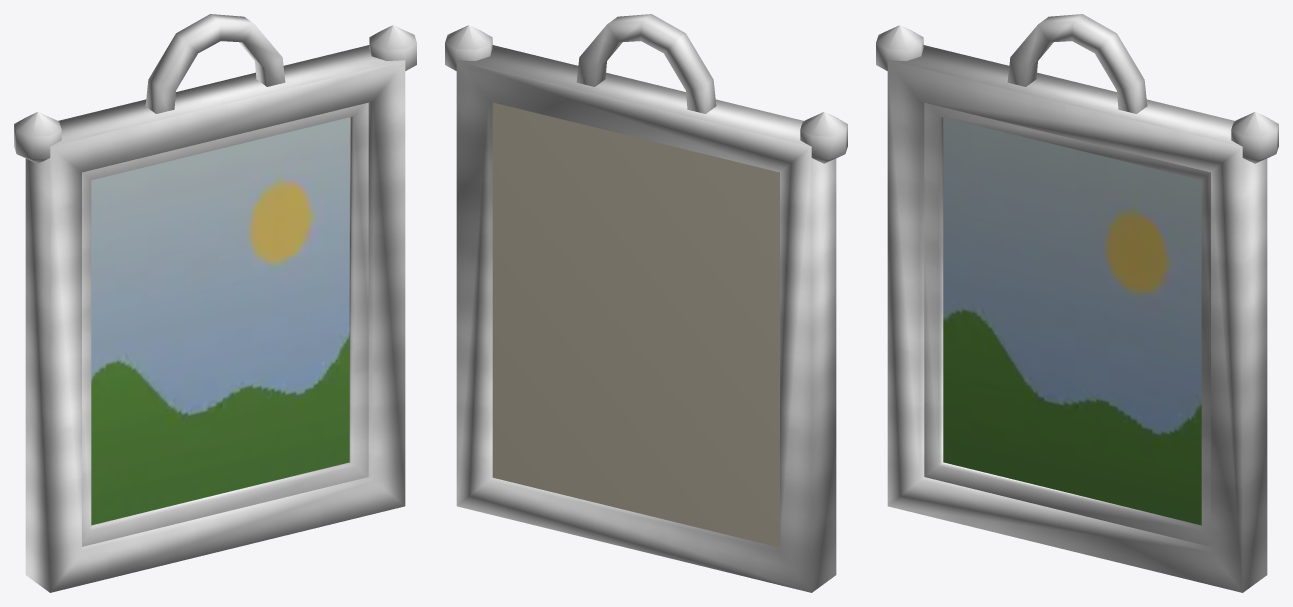
Rendered from nft.frame.glb.
3 renders of one model, left to right at view 1: azimuth 30°, elevation 25°; view 2: azimuth 150°, elevation 25°; view 3: azimuth 330°, elevation 25°, orthographic.
Parts seen in each view (by area): view 1: fx.nft.frame; view 2: fx.nft.frame; view 3: fx.nft.frame.
Part boxes in pixels (box(x1,y1,x2,y2)): fx.nft.frame: box(14, 14, 416, 592); fx.nft.frame: box(445, 14, 847, 592); fx.nft.frame: box(876, 14, 1278, 592).
Bounding box in the file's own units: 0.56 × 0.703 × 0.06.
Materials: 3 (2 with a texture image).
